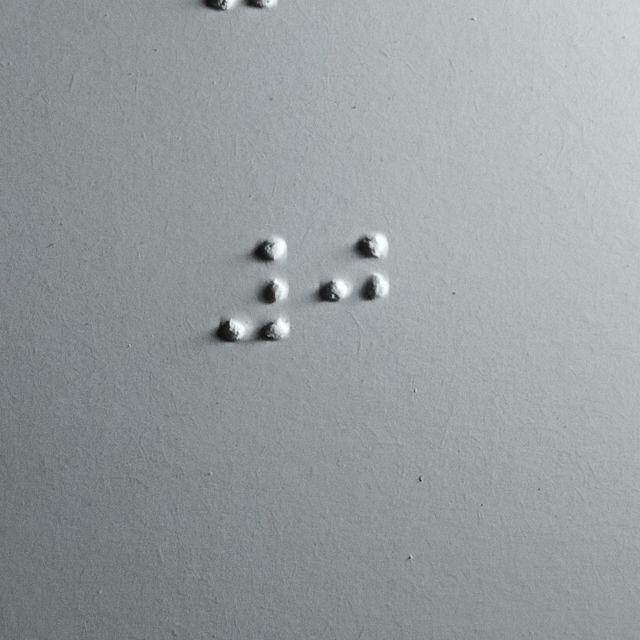0: (315, 233, 390, 343)
number: (216, 233, 291, 343)
